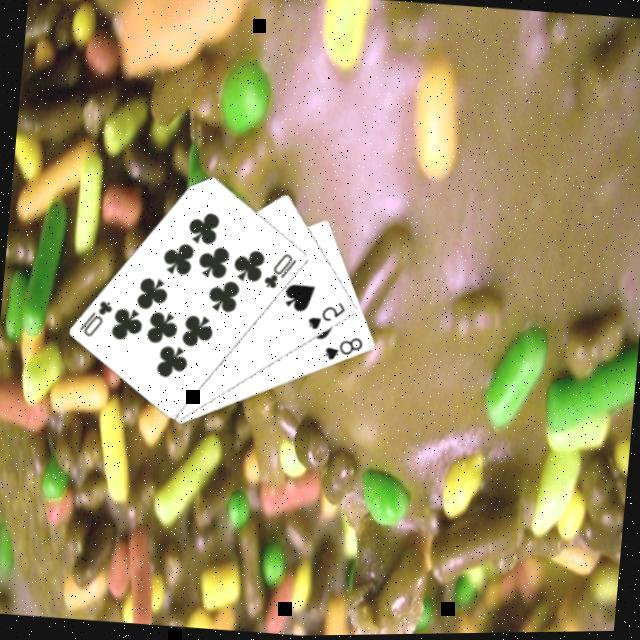10C: (73, 296, 115, 342), (256, 250, 298, 294)
5S: (302, 297, 346, 338)
8S: (319, 332, 364, 368)
